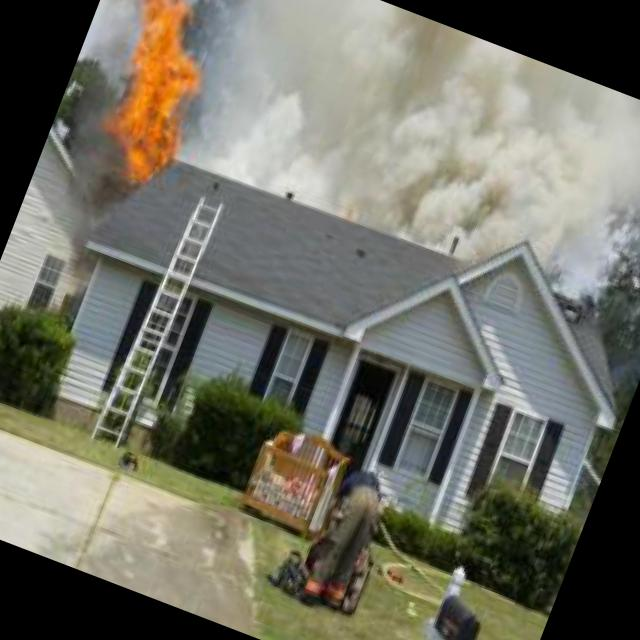fire: (63, 0, 249, 198)
smoke: (175, 0, 640, 331)
